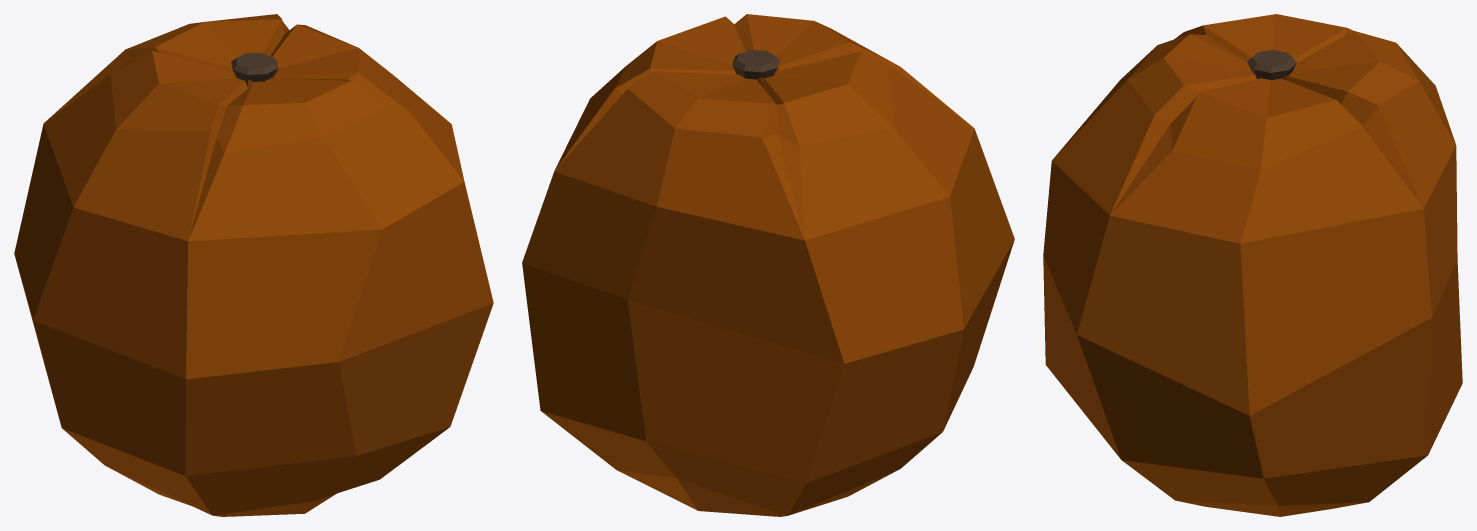
The model's file is Orange_Rotten.fbx.
3 views of the same model, side by side, from view 1: azimuth 30°, elevation 25°; view 2: azimuth 150°, elevation 25°; view 3: azimuth 270°, elevation 25° (orthographic).
Visible parts, largest first — view 1: SM_Orange_Rotten; view 2: SM_Orange_Rotten; view 3: SM_Orange_Rotten.
Boxes of the visible parts, <box> form: SM_Orange_Rotten: <box>14,14,493,516</box>; SM_Orange_Rotten: <box>522,14,1014,516</box>; SM_Orange_Rotten: <box>1043,14,1462,516</box>.
Size of the model in its own units: 9.85 by 9.48 by 8.41.
Materials: 1 (1 with a texture image).
